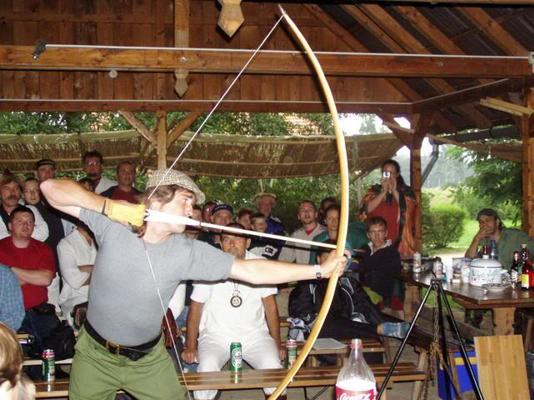person: (40, 168, 349, 400)
